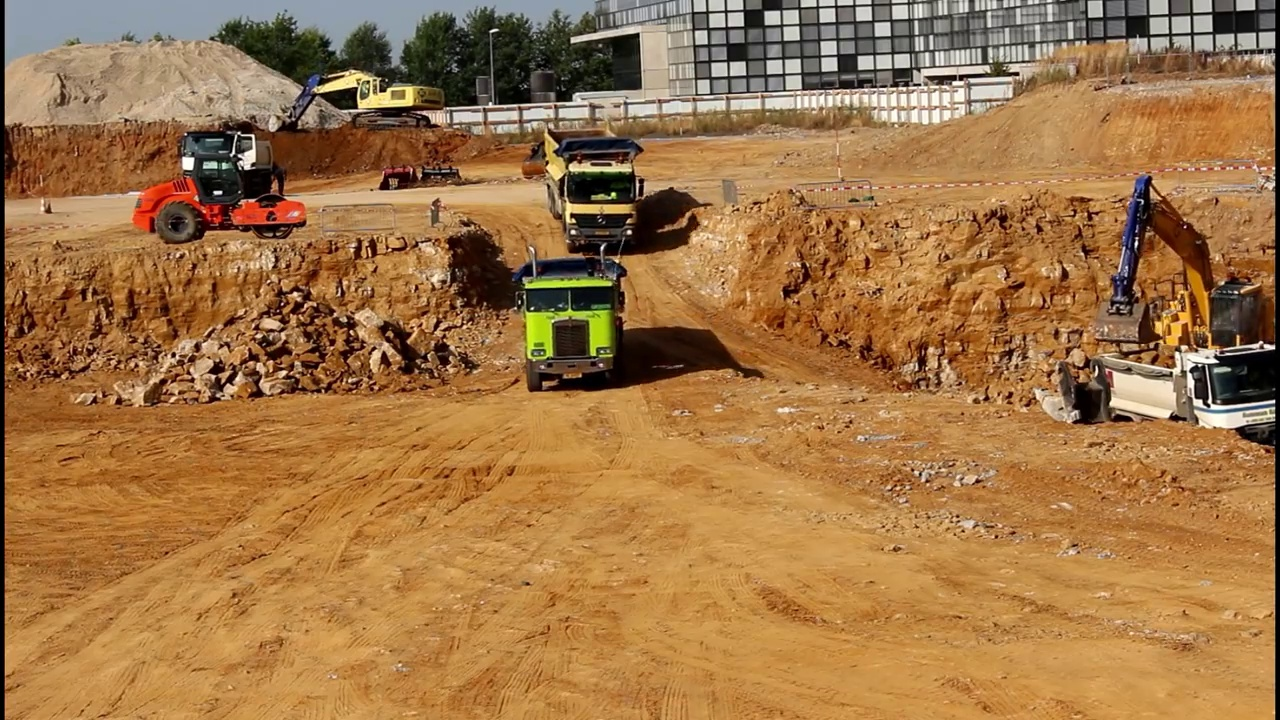compactor: (131, 156, 312, 243)
excavator: (1079, 168, 1280, 394), (270, 62, 450, 133)
truck: (1092, 336, 1280, 462), (516, 243, 631, 396), (537, 120, 650, 254), (174, 121, 285, 209)
worker: (275, 161, 288, 200)
